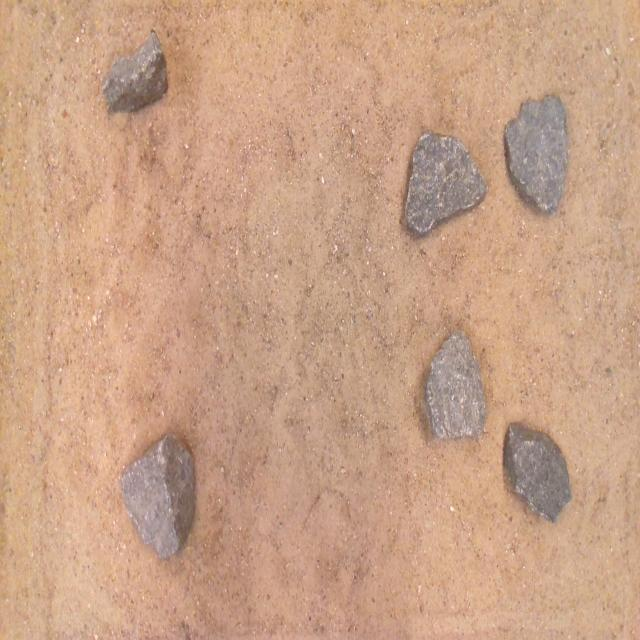rock: (119, 434, 195, 558), (405, 132, 486, 235), (505, 95, 568, 212), (425, 331, 486, 439), (504, 423, 571, 521), (103, 30, 168, 111)
